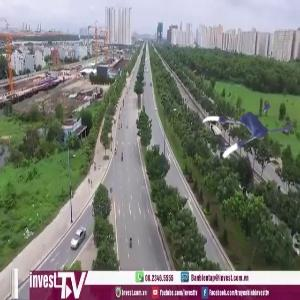drone: (203, 87, 294, 178)
